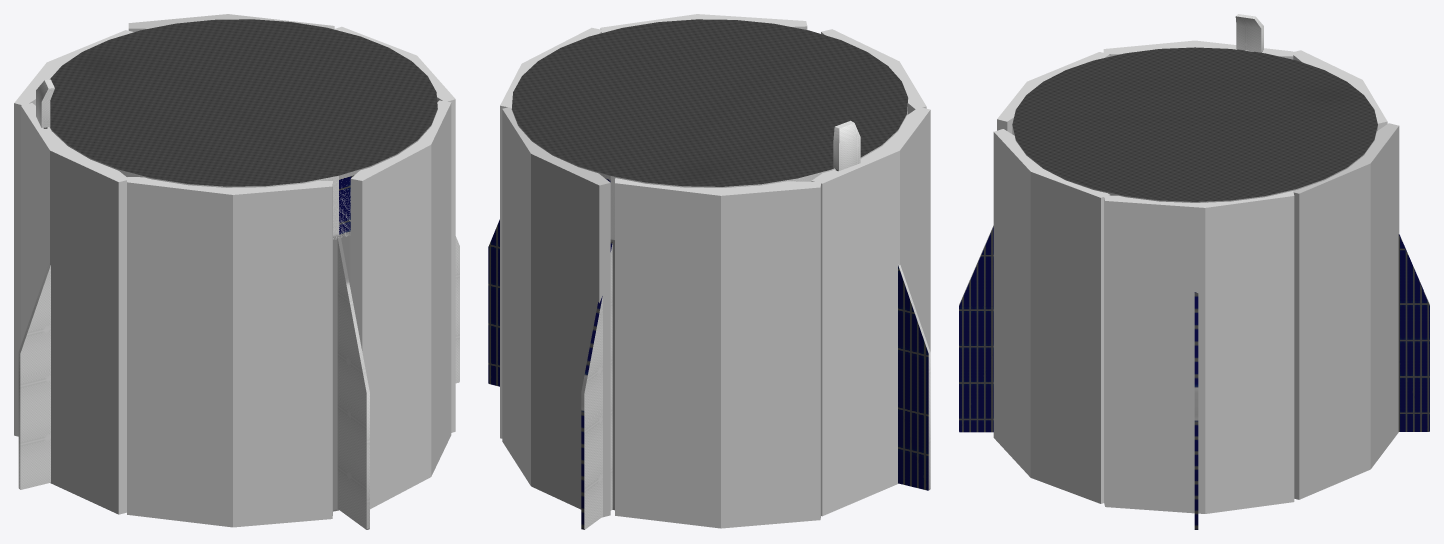
3 views of the same model, side by side, from view 1: azimuth 30°, elevation 25°; view 2: azimuth 150°, elevation 25°; view 3: azimuth 270°, elevation 25° (orthographic). The views are drawn at different scales.
Parts seen in each view (by area): view 1: col3.001, trunkpanel1.001, col2.001, col4.001, fins, col7.001, col5.001, col6.001, topcol, trunkclip; view 2: col7.001, trunkpanel1.001, col6.001, col2.001, fins, col5.001, col3.001, trunkclip, col4.001, topcol; view 3: col5.001, trunkpanel1.001, col4.001, col6.001, fins, col3.001, col2.001, col7.001, trunkclip.
Boxes of the visible parts, <box> form: col3.001: <box>127,177,332,527</box>; trunkpanel1.001: <box>50,19,437,511</box>; col2.001: <box>21,103,129,514</box>; col4.001: <box>350,100,451,509</box>; fins: <box>18,236,459,529</box>; col7.001: <box>14,30,133,436</box>; col5.001: <box>334,26,455,432</box>; col6.001: <box>128,14,334,31</box>; topcol: <box>49,110,437,239</box>; trunkclip: <box>36,79,54,128</box>; col7.001: <box>615,178,820,528</box>; trunkpanel1.001: <box>511,19,908,510</box>; col6.001: <box>502,107,610,517</box>; col2.001: <box>811,107,930,516</box>; fins: <box>488,219,930,529</box>; col5.001: <box>500,27,602,438</box>; col3.001: <box>821,29,926,114</box>; trunkclip: <box>833,120,860,171</box>; col4.001: <box>600,14,807,32</box>; topcol: <box>532,103,907,239</box>; col5.001: <box>1104,191,1294,513</box>; trunkpanel1.001: <box>1012,47,1377,202</box>; col4.001: <box>993,129,1110,503</box>; col6.001: <box>1293,123,1399,499</box>; fins: <box>959,225,1429,529</box>; col3.001: <box>997,52,1109,133</box>; col2.001: <box>1103,40,1293,59</box>; col7.001: <box>1293,50,1387,130</box>; trunkclip: <box>1235,14,1263,52</box>.
Bounding box in the file's own units: 512 × 414 × 515.
2 materials, 1 textured.
